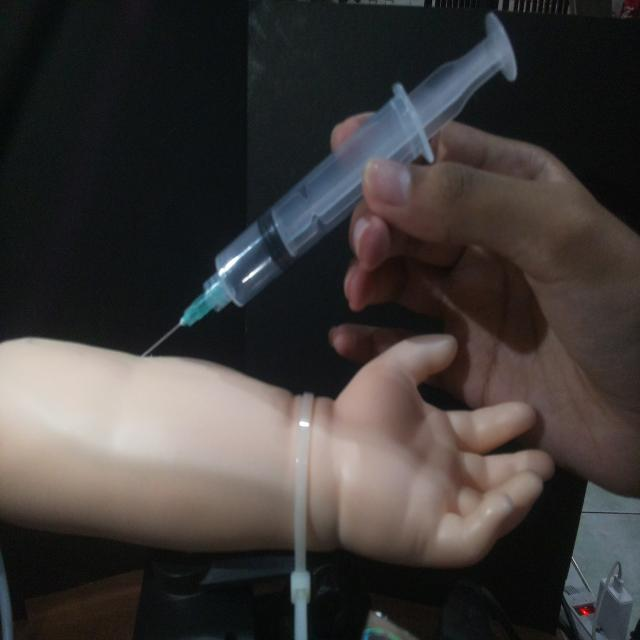29deg: (136, 11, 521, 360)
